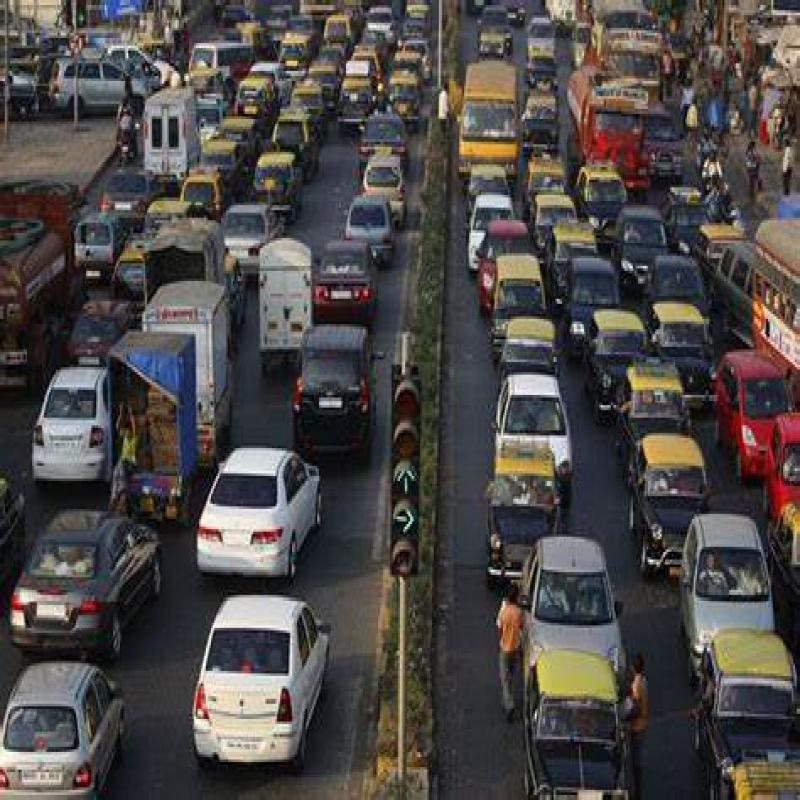car: (198, 578, 340, 776), (202, 423, 318, 587), (518, 647, 640, 800), (17, 507, 155, 642), (0, 661, 133, 800), (704, 633, 800, 800), (530, 530, 621, 680), (21, 344, 123, 476), (676, 503, 772, 638), (296, 319, 375, 460), (495, 361, 573, 493), (317, 230, 375, 320)
